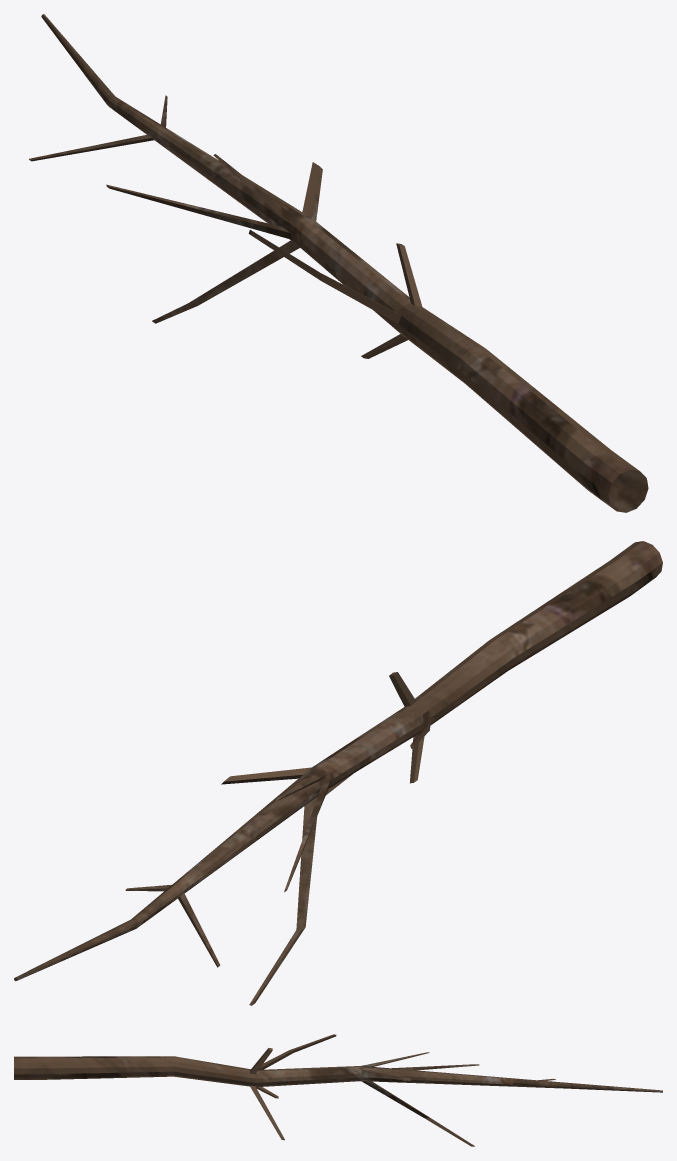
Rendered from Trunk.fbx.
3 renders of one model, top to bottom at view 1: azimuth 30°, elevation 25°; view 2: azimuth 150°, elevation 25°; view 3: azimuth 270°, elevation 25°, orthographic. The views are drawn at different scales.
Parts seen in each view (by area): view 1: TreeNaked.001; view 2: TreeNaked.001; view 3: TreeNaked.001.
Part boxes in pixels (x1,y1,x2,y2): TreeNaked.001: (29,14,648,512); TreeNaked.001: (14,541,662,1005); TreeNaked.001: (14,1034,662,1146).
Size of the model in its own units: 333 by 433 by 2349.
Materials: 1 (1 with a texture image).
